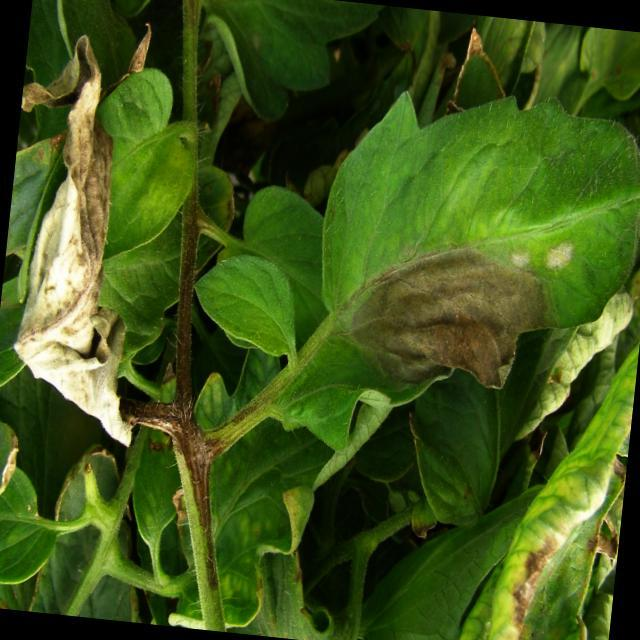Tomato healthy leaf: (186, 250, 303, 362)
Tomato mold leaf: (292, 72, 640, 477)
